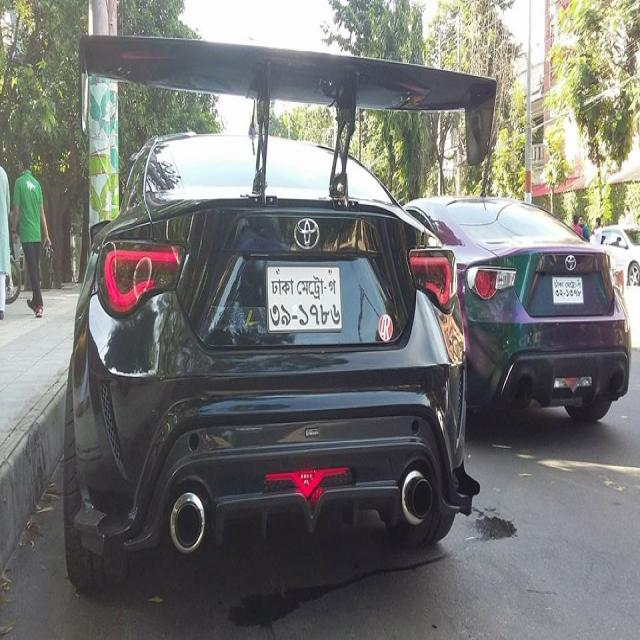numberplate: (264, 263, 342, 333), (551, 274, 584, 304)
